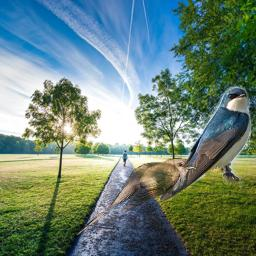Cuckoo: (76, 157, 198, 236)
Swallow: (155, 83, 255, 204)
